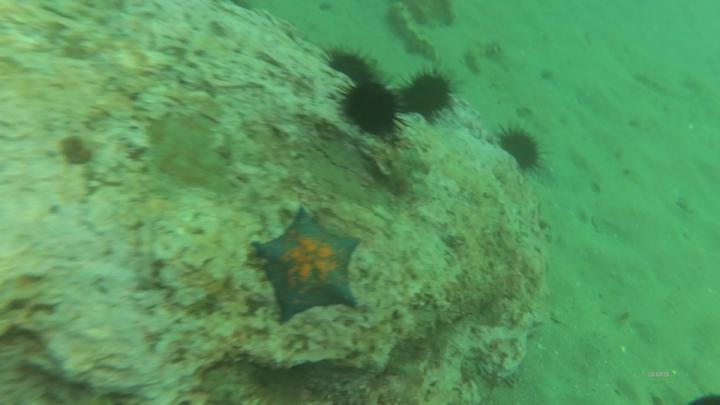echinus: (333, 72, 416, 146), (493, 117, 555, 183), (401, 64, 465, 126), (320, 41, 383, 88)
holothurian: (386, 2, 442, 61)
starfish: (251, 207, 365, 325)
